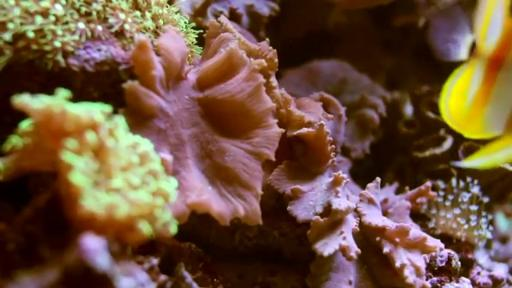Fish: (440, 0, 511, 168)
